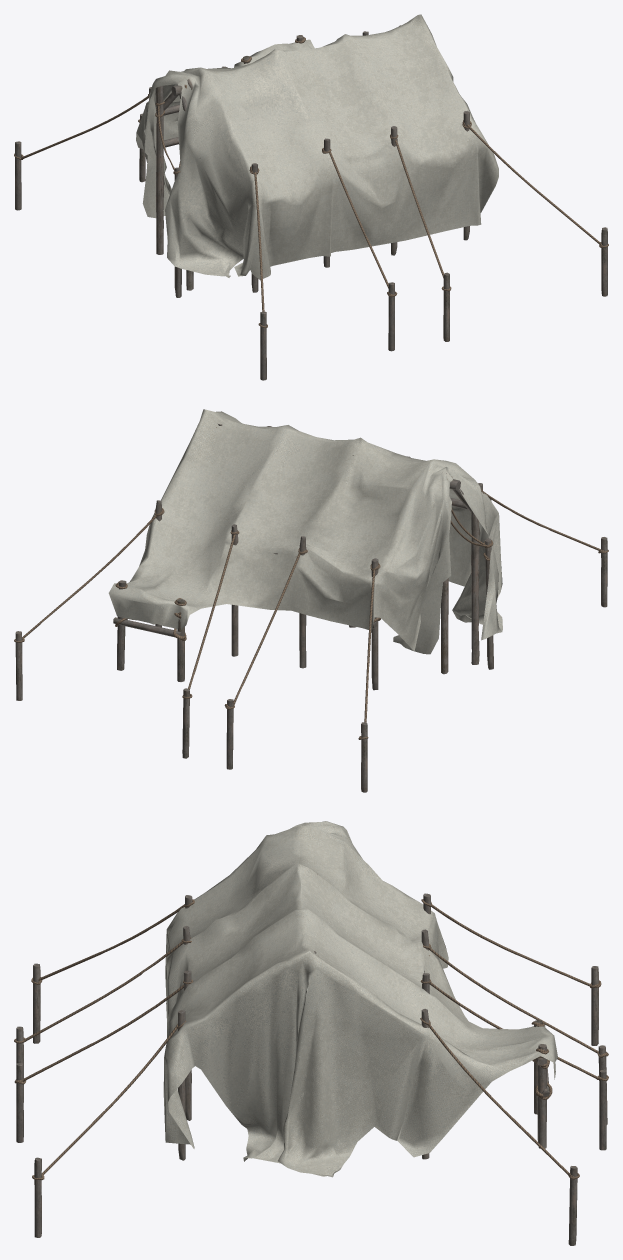
The model's file is SM_Tent.fbx.
3 renders of one model, top to bottom at view 1: azimuth 30°, elevation 25°; view 2: azimuth 150°, elevation 25°; view 3: azimuth 270°, elevation 25°, orthographic. The views are drawn at different scales.
Parts seen in each view (by area): view 1: SM_Tent_LOD0; view 2: SM_Tent_LOD0; view 3: SM_Tent_LOD0.
Part boxes in pixels (bbox=[...]): SM_Tent_LOD0: bbox=[14, 14, 608, 380]; SM_Tent_LOD0: bbox=[14, 409, 608, 792]; SM_Tent_LOD0: bbox=[14, 821, 608, 1245].
Bounding box in the file's own units: 930 × 1161 × 568.
